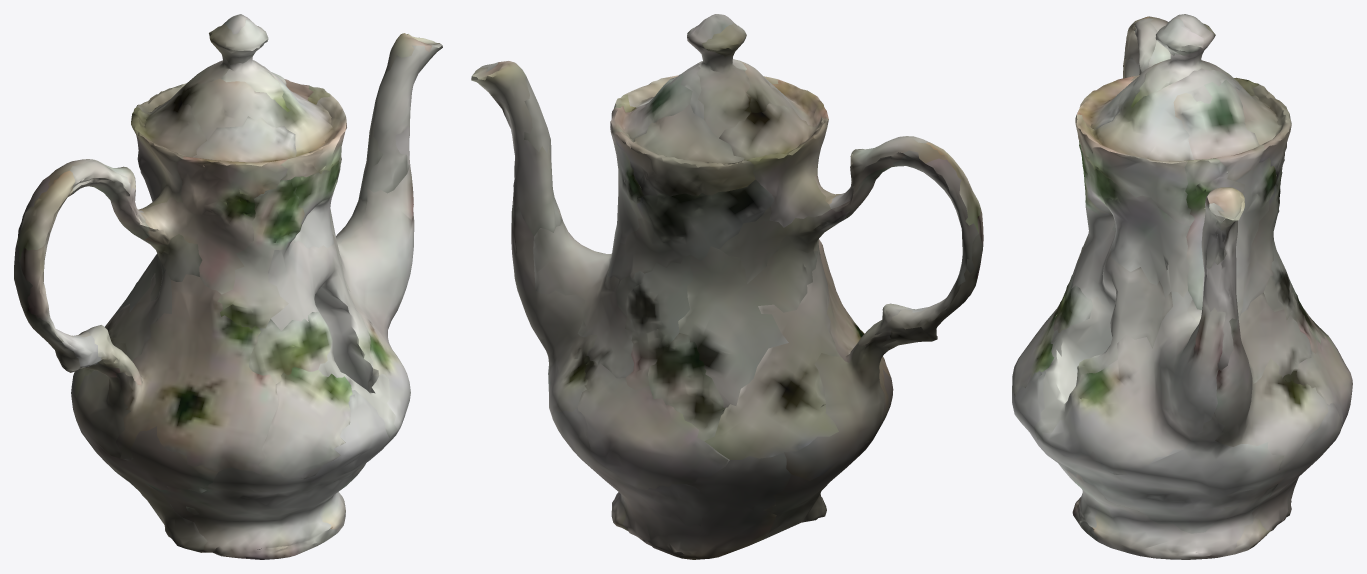
File: teapot.glb
The picture shows the model from 3 angles, left to right: view 1: azimuth 30°, elevation 25°; view 2: azimuth 150°, elevation 25°; view 3: azimuth 270°, elevation 25°; orthographic projection.
Parts seen in each view (by area): view 1: Object_4; view 2: Object_4; view 3: Object_4.
Boxes of the visible parts, x1,y1,x2,y2 form: Object_4: [14, 14, 442, 559]; Object_4: [471, 14, 983, 559]; Object_4: [1012, 14, 1352, 559].
Bounding box in the file's own units: 0.2281 × 0.2361 × 0.1457.
1 material, 1 textured.
